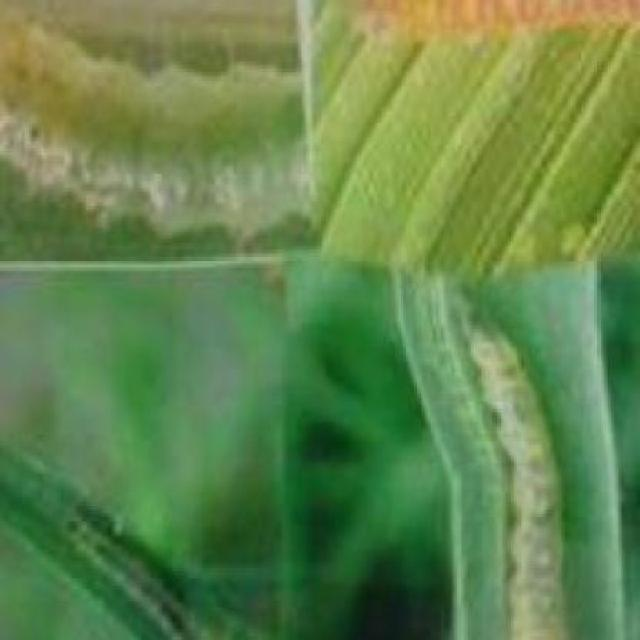leaf-folder: (0, 0, 289, 248), (437, 304, 578, 624), (40, 495, 208, 640)
